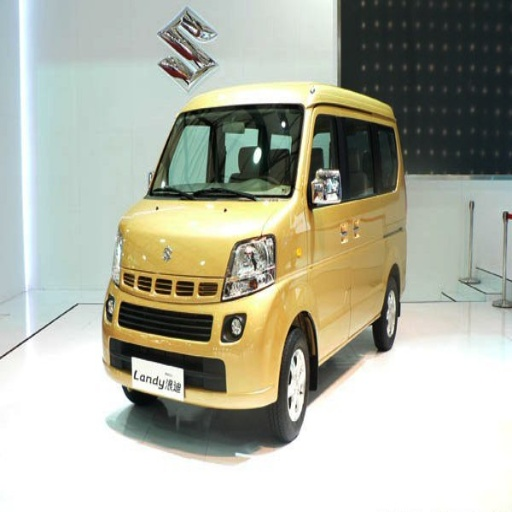front_bumper: (102, 265, 287, 410)
front_glass: (150, 106, 303, 197)
front_left_door: (305, 105, 358, 352)
